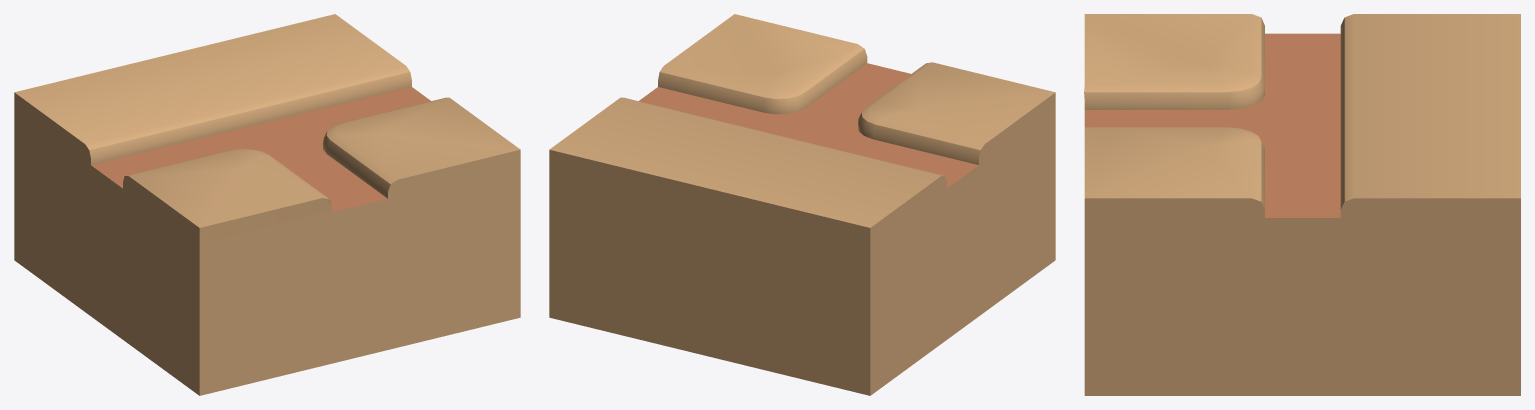
Rendered from square_sand_roadD.glb.
3 views of the same model, side by side, from view 1: azimuth 30°, elevation 25°; view 2: azimuth 150°, elevation 25°; view 3: azimuth 270°, elevation 25° (orthographic). The views are drawn at different scales.
Visible parts, largest first — view 1: square_sand_roadD; view 2: square_sand_roadD; view 3: square_sand_roadD.
Boxes of the visible parts, x1=… form: square_sand_roadD: x1=14, y1=14, x2=520, y2=395; square_sand_roadD: x1=549, y1=14, x2=1055, y2=395; square_sand_roadD: x1=1084, y1=14, x2=1520, y2=395.
Size of the model in its own units: 2 by 1 by 2.
